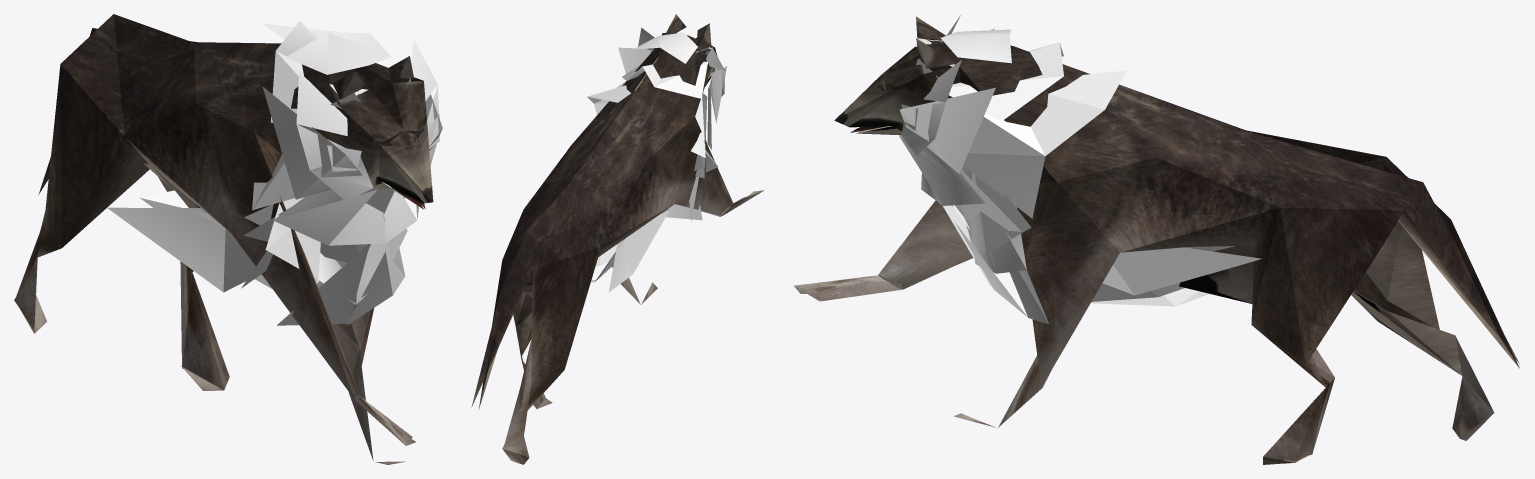
The model's file is herald.glb.
3 renders of one model, left to right at view 1: azimuth 30°, elevation 25°; view 2: azimuth 150°, elevation 25°; view 3: azimuth 270°, elevation 25°, orthographic. The views are drawn at different scales.
Visible parts, largest first — view 1: herald; view 2: herald; view 3: herald.
Part boxes in pixels (x1,y1,x2,y2): herald: (14,14,442,464); herald: (471,14,763,464); herald: (794,15,1519,464).
Size of the model in its own units: 0.2273 by 0.5976 by 0.9202.
2 materials, 1 textured.
